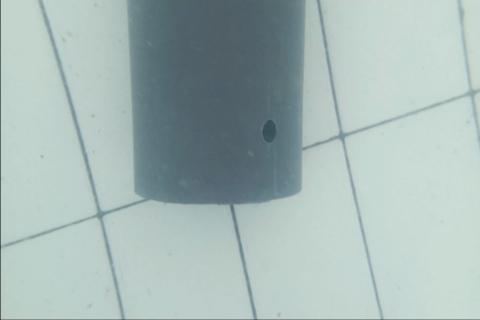kebocoran: (261, 118, 279, 143)
